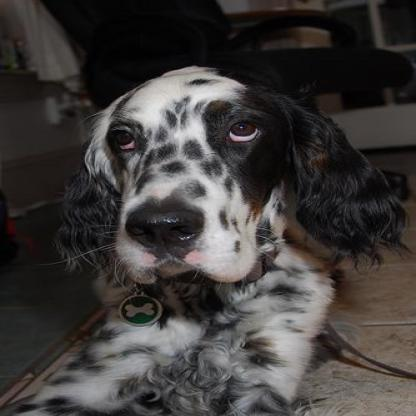English_setter: (9, 66, 411, 414)
